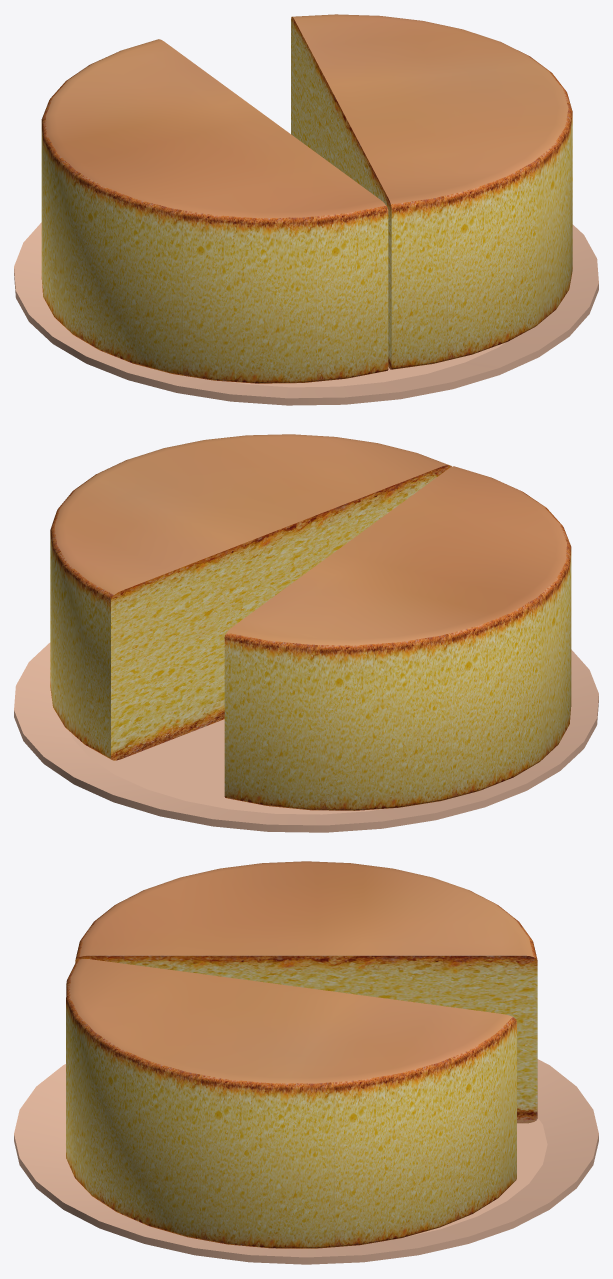
File: Cake2.fbx
3 renders of one model, top to bottom at view 1: azimuth 30°, elevation 25°; view 2: azimuth 150°, elevation 25°; view 3: azimuth 270°, elevation 25°, orthographic.
Parts seen in each view (by area): view 1: Cylinder; view 2: Cylinder; view 3: Cylinder.
Part boxes in pixels (x1,y1,x2,y2): Cylinder: [14, 14, 598, 405]; Cylinder: [14, 434, 598, 832]; Cylinder: [14, 861, 598, 1264].
Bounding box in the file's own units: 253 × 85.29 × 253.
